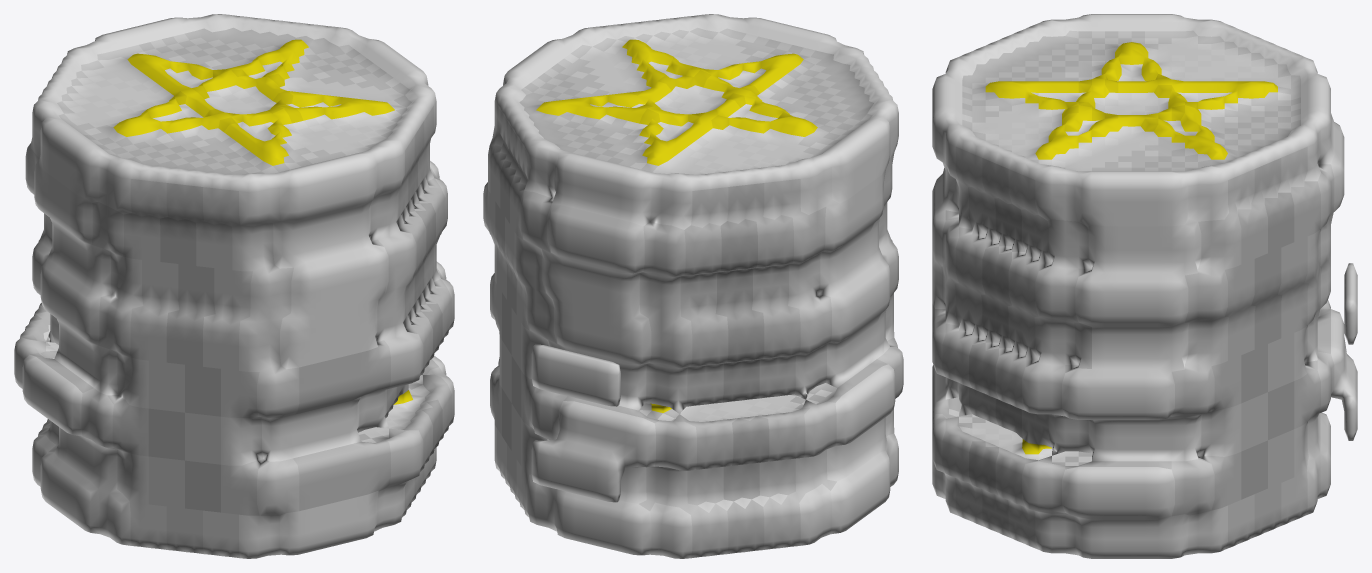
3 renders of one model, left to right at view 1: azimuth 30°, elevation 25°; view 2: azimuth 150°, elevation 25°; view 3: azimuth 270°, elevation 25°, orthographic.
Bounding box in the file's own units: 1.6 × 1.6 × 1.6.
